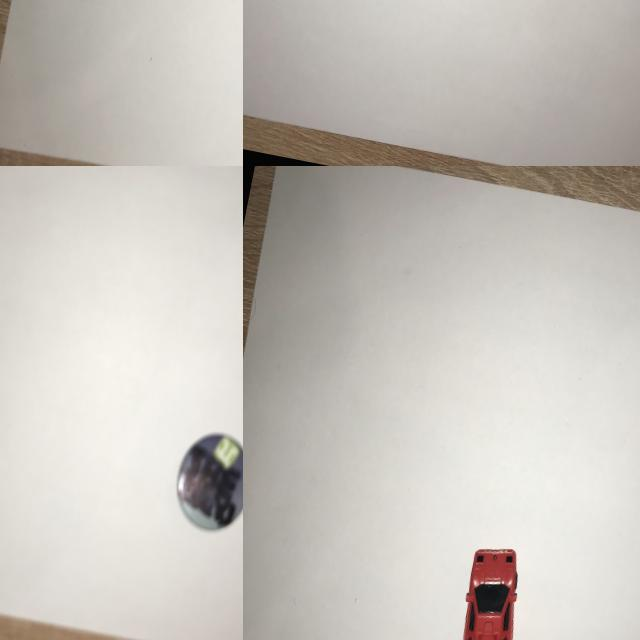car: (439, 535, 538, 640)
icon: (162, 420, 243, 545)
